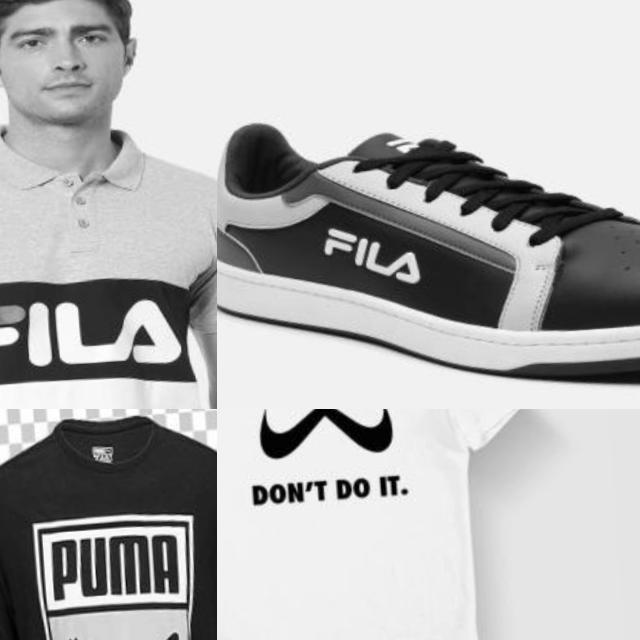FILA_original: (0, 262, 195, 404), (300, 207, 439, 317)
NIKE_fake: (219, 409, 441, 532)
PUMA_original: (45, 518, 188, 606)
